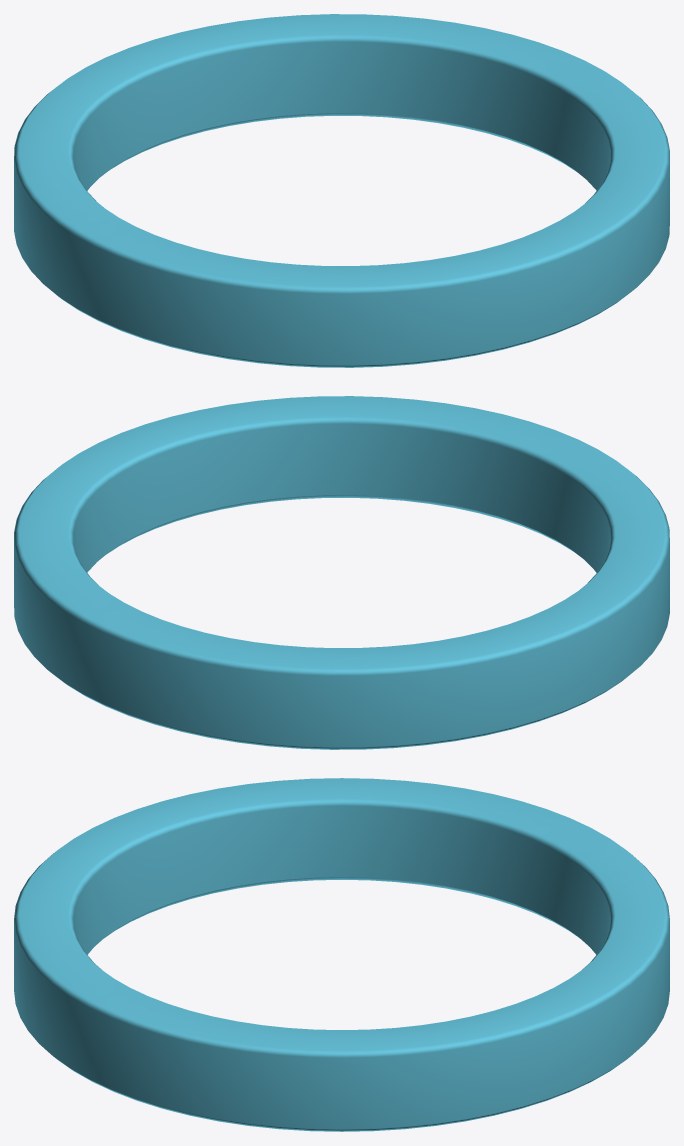
3 renders of one model, top to bottom at view 1: azimuth 30°, elevation 25°; view 2: azimuth 150°, elevation 25°; view 3: azimuth 270°, elevation 25°, orthographic.
Parts seen in each view (by area): view 1: seal_body; view 2: seal_body; view 3: seal_body.
Boxes of the visible parts, box(x1,y1,x2,y2) form: seal_body: box(14, 14, 669, 367); seal_body: box(14, 396, 669, 749); seal_body: box(14, 778, 669, 1131).
Bounding box in the file's own units: 0.0698 × 0.00952 × 0.0698.
